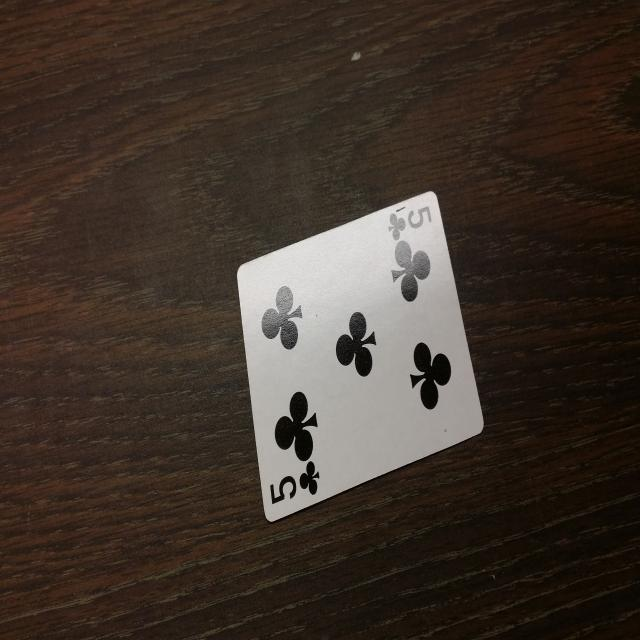5c: (268, 456, 325, 513), (382, 200, 437, 245)
